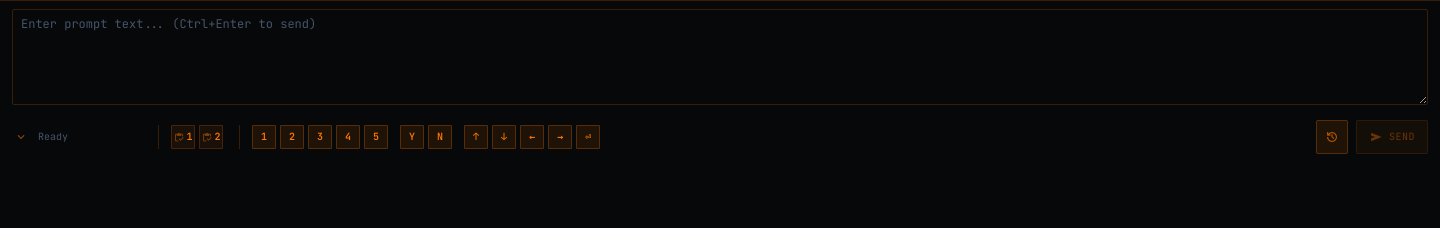
Test: <ComposerInput> history popover keys › ctrlKey+Enter with history open sends the current draft
Type "earlier prompt" into the text box with placeholder "Enter prompt text... (Ctrl+Enter to send)" at (720, 57), box [12, 9, 1428, 105]
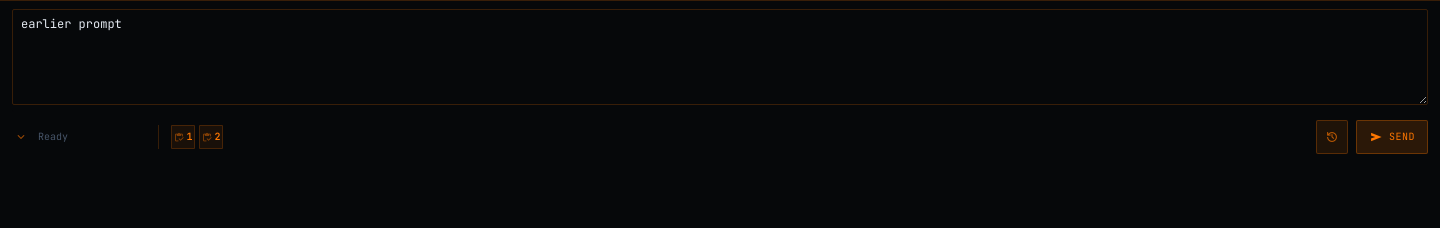
Press Enter in the text box, box [12, 9, 1428, 105]
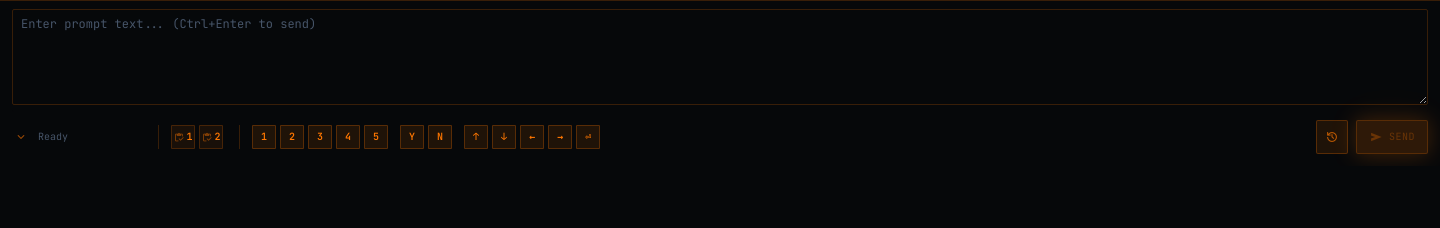
Result: the text box with placeholder "Enter prompt text... (Ctrl+Enter to send)" is empty
Type "new draft" into the text box with placeholder "Enter prompt text... (Ctrl+Enter to send)" at (720, 57), box [12, 9, 1428, 105]
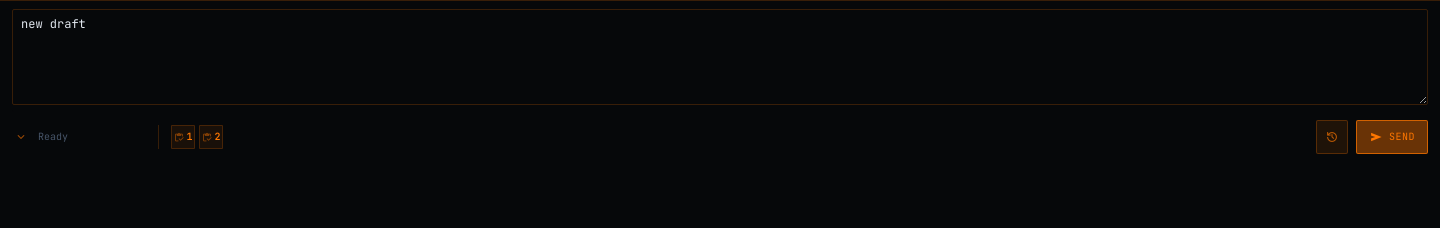
Click the button with test id "prompt-history-button" at (1332, 137), box [1316, 120, 1348, 154]
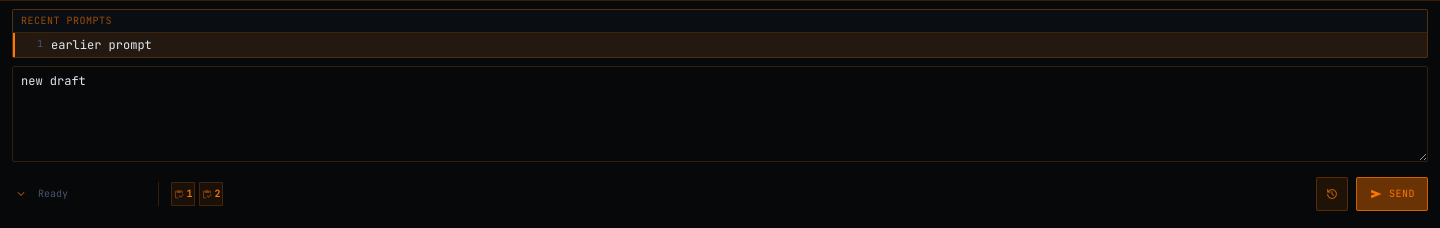
Result: the option with test id "prompt-history-item-0" is shown at [13, 33, 1427, 57]
Press Enter in the text box, box [12, 66, 1428, 162]
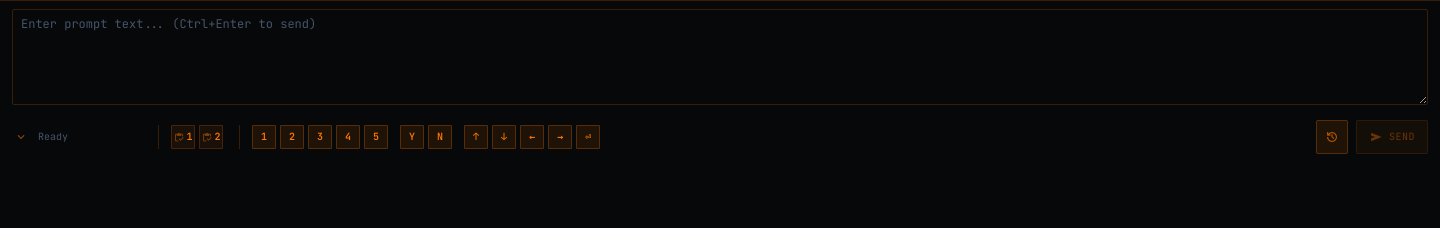
Result: the element with test id "prompt-history-popover" is gone
